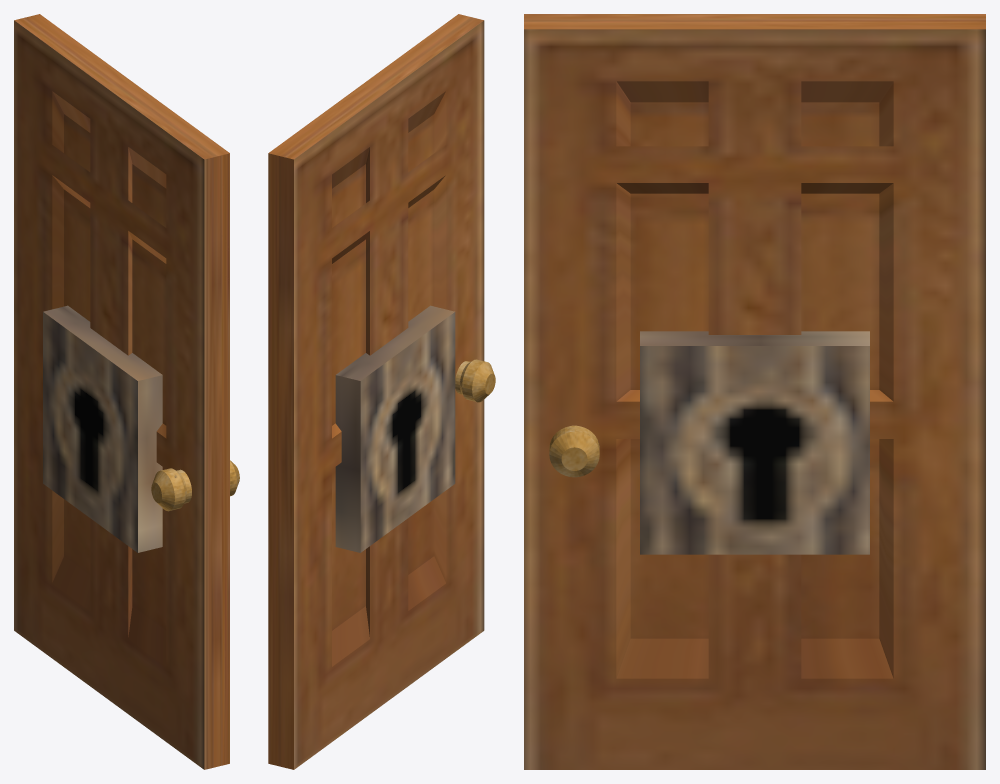
File: locked door.fbx
3 renders of one model, left to right at view 1: azimuth 30°, elevation 25°; view 2: azimuth 150°, elevation 25°; view 3: azimuth 270°, elevation 25°, orthographic. The views are drawn at different scales.
Visible parts, largest first — view 1: Cube.002; view 2: Cube.002; view 3: Cube.002.
Part boxes in pixels (x1,y1,x2,y2): Cube.002: (14, 14, 239, 769); Cube.002: (268, 14, 495, 769); Cube.002: (524, 14, 985, 769).
Size of the model in its own units: 32.6 by 244 by 138.
